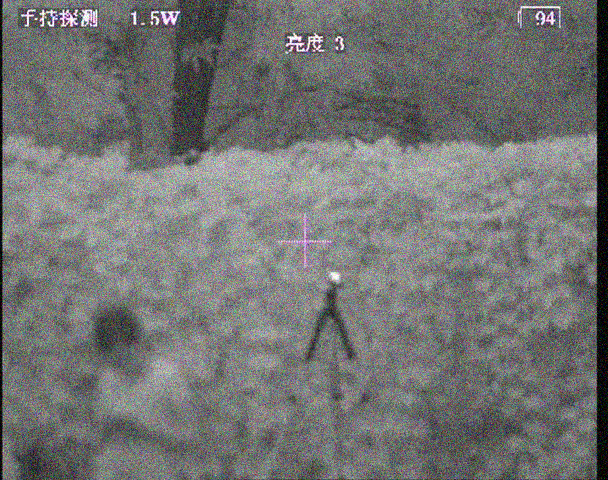my: (329, 271, 341, 282)
